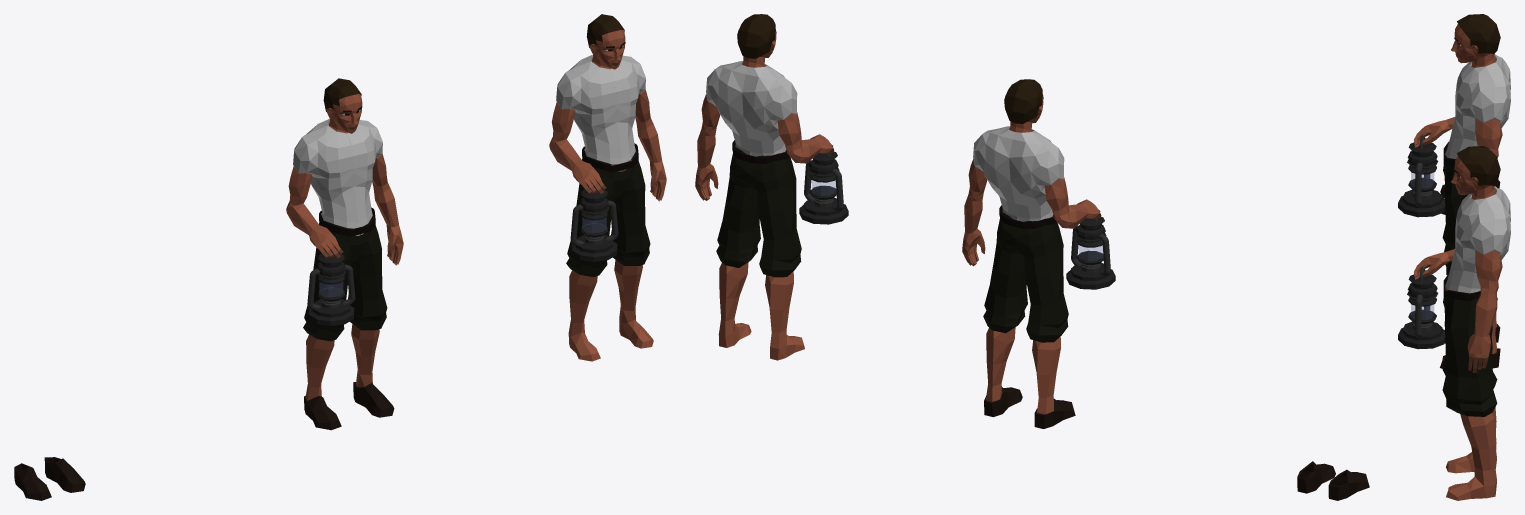
Rendered from CharacterColor.FBX.
3 views of the same model, side by side, from view 1: azimuth 30°, elevation 25°; view 2: azimuth 150°, elevation 25°; view 3: azimuth 270°, elevation 25° (orthographic). The views are drawn at different scales.
Visible parts, largest first — view 1: group9_pasted__group_pasted__pasted__polySurface11_pasted__p, pasted__pPlane003, pasted__polySurface016; view 2: group9_pasted__group_pasted__pasted__polySurface11_pasted__p, pasted__pPlane003, pasted__polySurface016; view 3: pasted__pPlane003, group9_pasted__group_pasted__pasted__polySurface11_pasted__p.
Part boxes in pixels (left/top/right/bottom): group9_pasted__group_pasted__pasted__polySurface11_pasted__p: left=286, top=78, right=403, bottom=430; pasted__pPlane003: left=549, top=14, right=666, bottom=361; pasted__polySurface016: left=14, top=457, right=85, bottom=500; group9_pasted__group_pasted__pasted__polySurface11_pasted__p: left=962, top=79, right=1115, bottom=428; pasted__pPlane003: left=695, top=14, right=848, bottom=360; pasted__polySurface016: left=1297, top=461, right=1369, bottom=500; pasted__pPlane003: left=1398, top=146, right=1510, bottom=500; group9_pasted__group_pasted__pasted__polySurface11_pasted__p: left=1398, top=14, right=1510, bottom=368.
Size of the model in its own units: 116 by 55.76 by 16.93.
